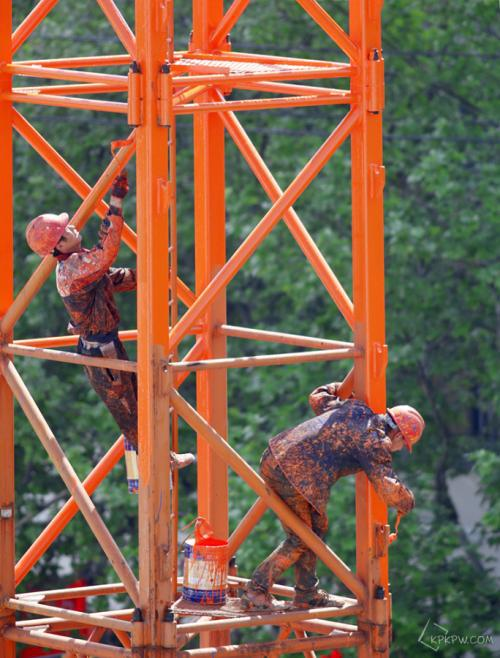helmet: (375, 396, 427, 458), (19, 207, 83, 255)
